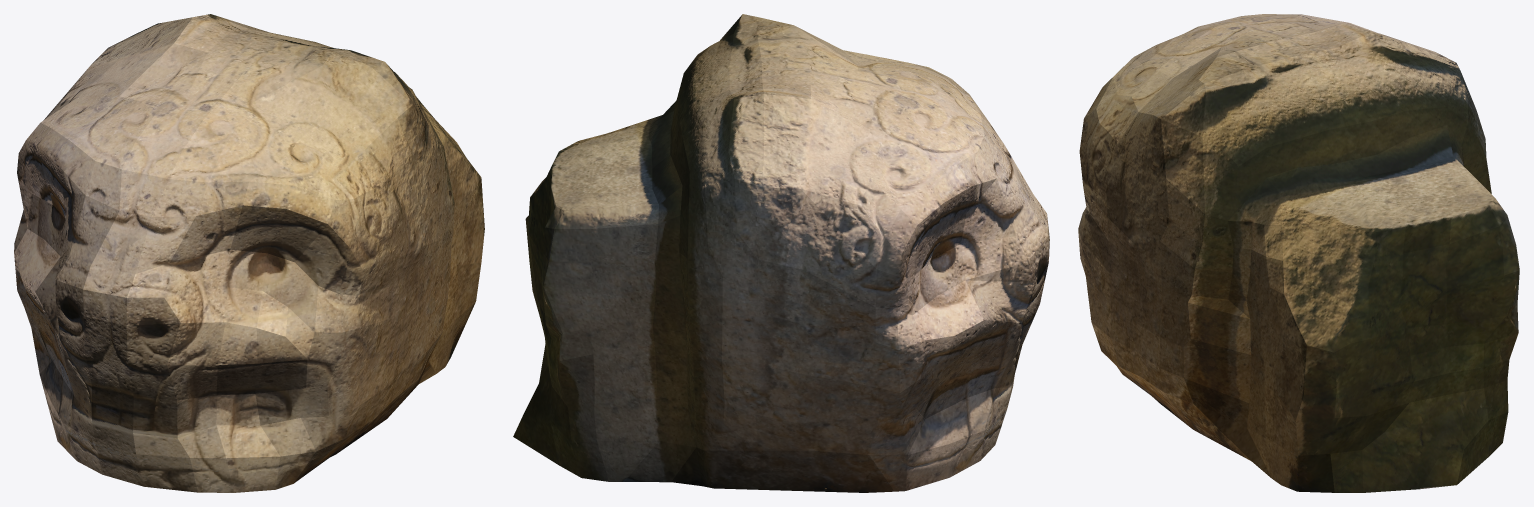
The model's file is 4_cabeza_clava_rn_3347.glb.
The picture shows the model from 3 angles, left to right: view 1: azimuth 30°, elevation 25°; view 2: azimuth 150°, elevation 25°; view 3: azimuth 270°, elevation 25°; orthographic projection. The views are drawn at different scales.
Parts seen in each view (by area): view 1: Box001; view 2: Box001; view 3: Box001.
Part boxes in pixels (x1,y1,x2,y2): Box001: (14,14,484,492); Box001: (513,14,1049,492); Box001: (1078,14,1519,492).
Bounding box in the file's own units: 0.6921 × 0.5212 × 0.5862.
Materials: 1 (1 with a texture image).
